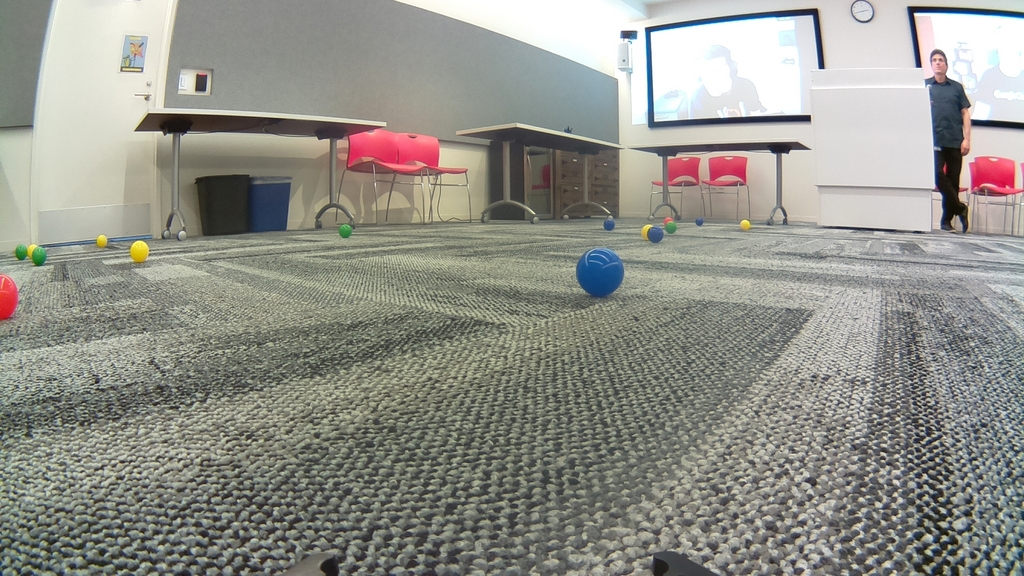ball: (1, 274, 18, 322)
